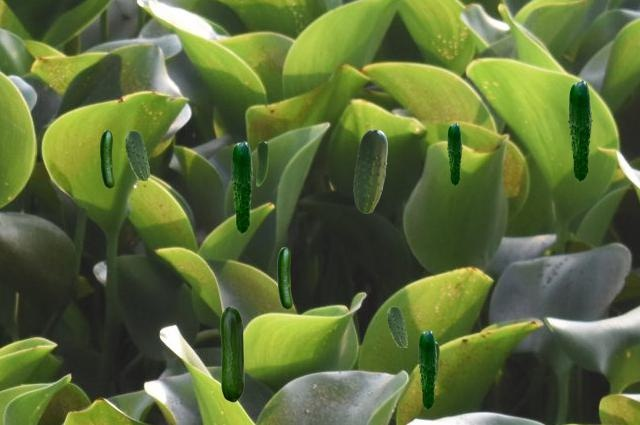cucumber: (353, 129, 386, 212), (568, 80, 591, 180), (220, 306, 243, 401), (231, 141, 252, 232), (418, 330, 436, 408), (125, 130, 148, 179), (277, 247, 291, 308), (447, 123, 461, 184), (387, 306, 406, 346), (100, 130, 113, 187), (256, 141, 267, 185), (436, 341, 438, 382)
